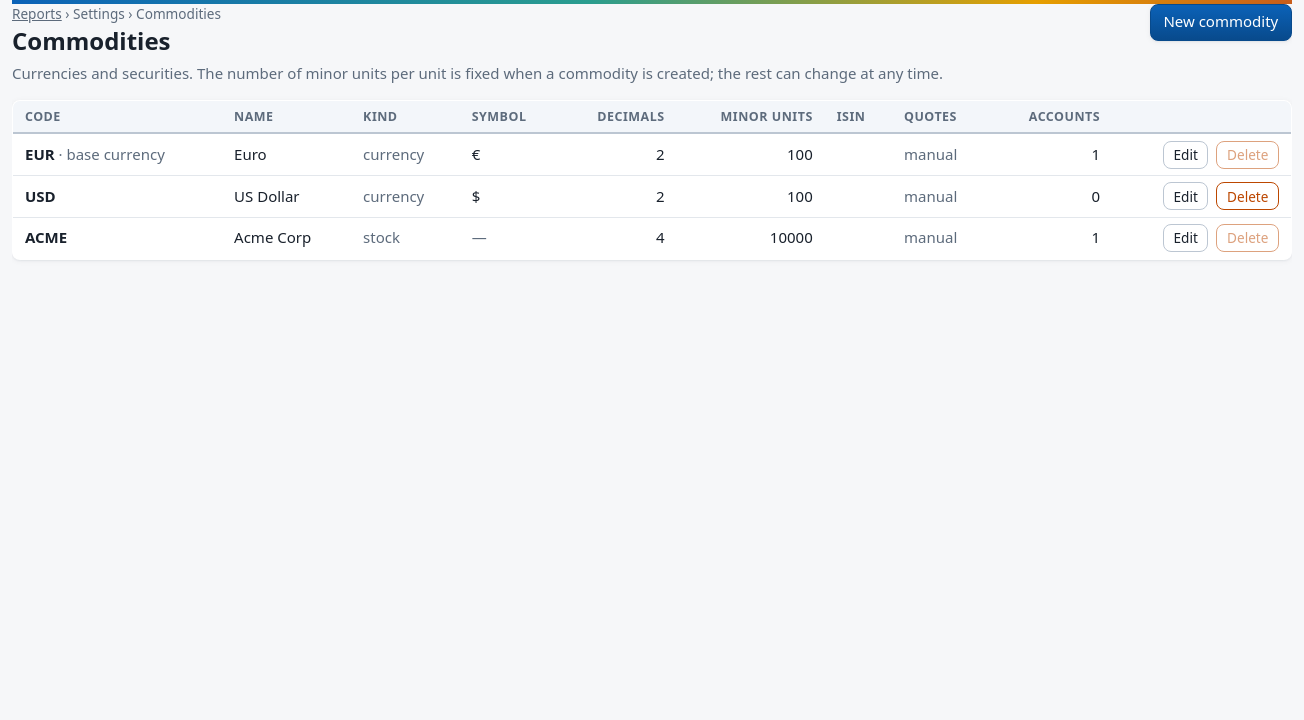
CommoditiesPage › edits only the display fields, and only those that changed
Click the button with aria-label "Edit USD": (1186,196) [1163,182,1208,210]
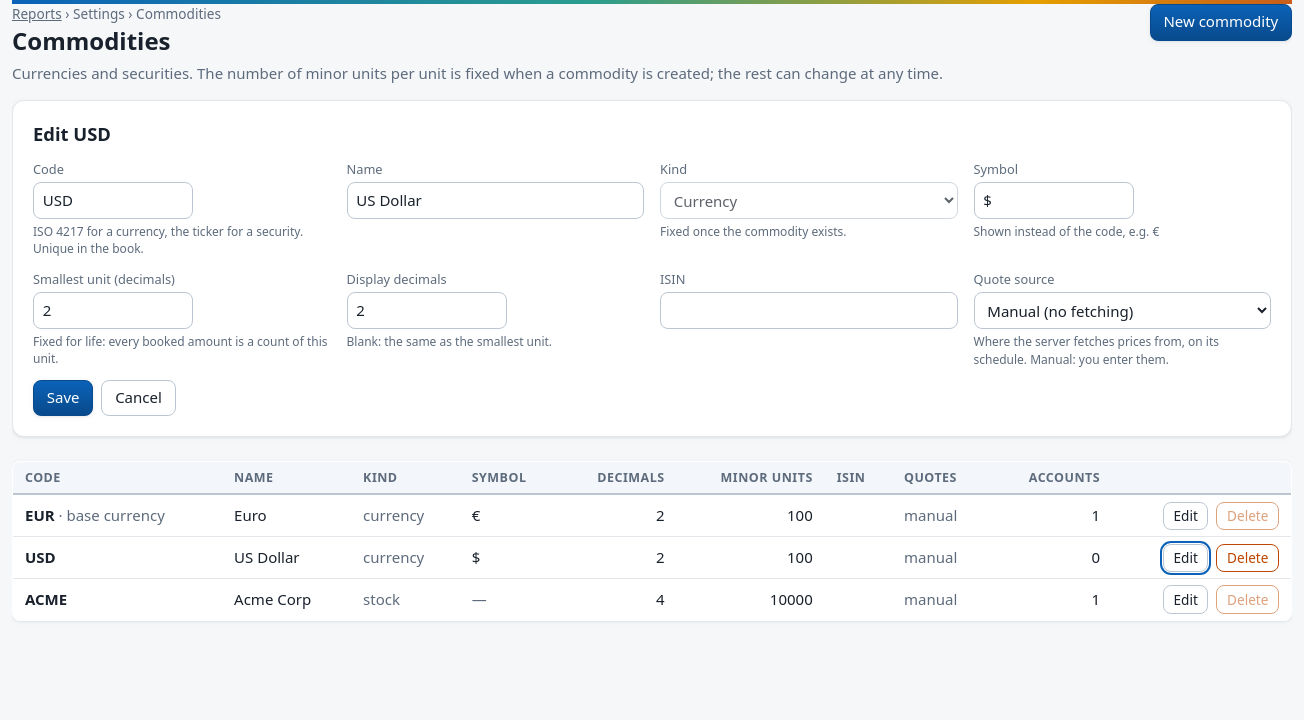
expect the dropdown labelled "Kind" is disabled: met, box [660,182,958,219]
expect the number field labelled "Smallest unit (decimals)" is disabled: met, box [33,292,193,329]
Replace the text in the field labelled "Name" with "United States dollar": (495,201) [346,182,644,219]
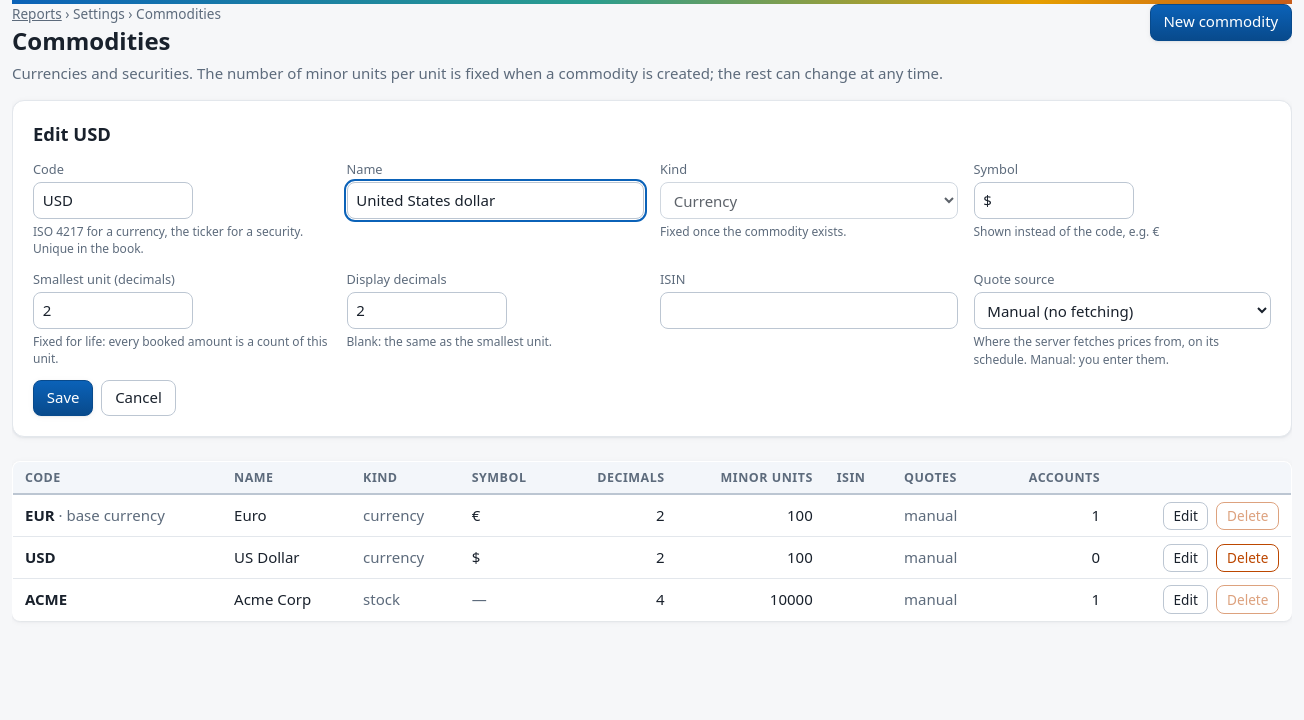
Clear the field labelled "Symbol": (1054,201) [974,182,1134,219]
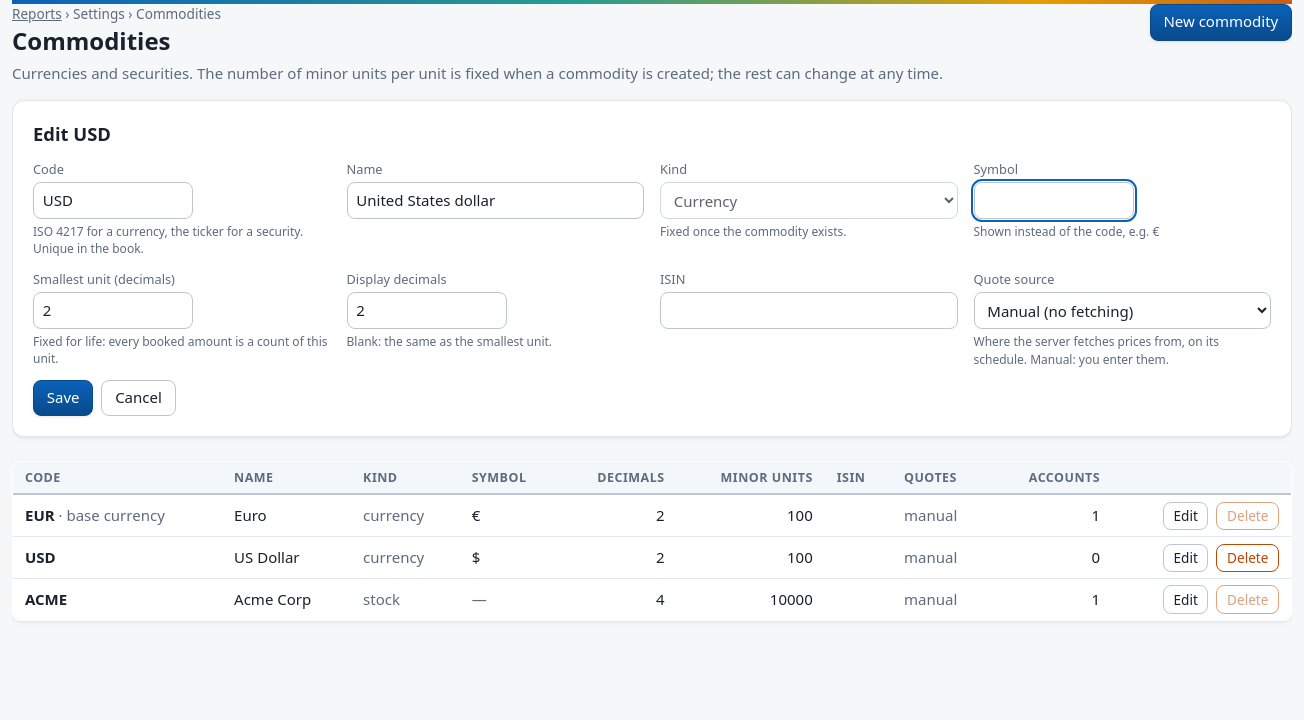
Replace the text in the number field labelled "Display decimals" with "3": (426,311) [346,292,506,329]
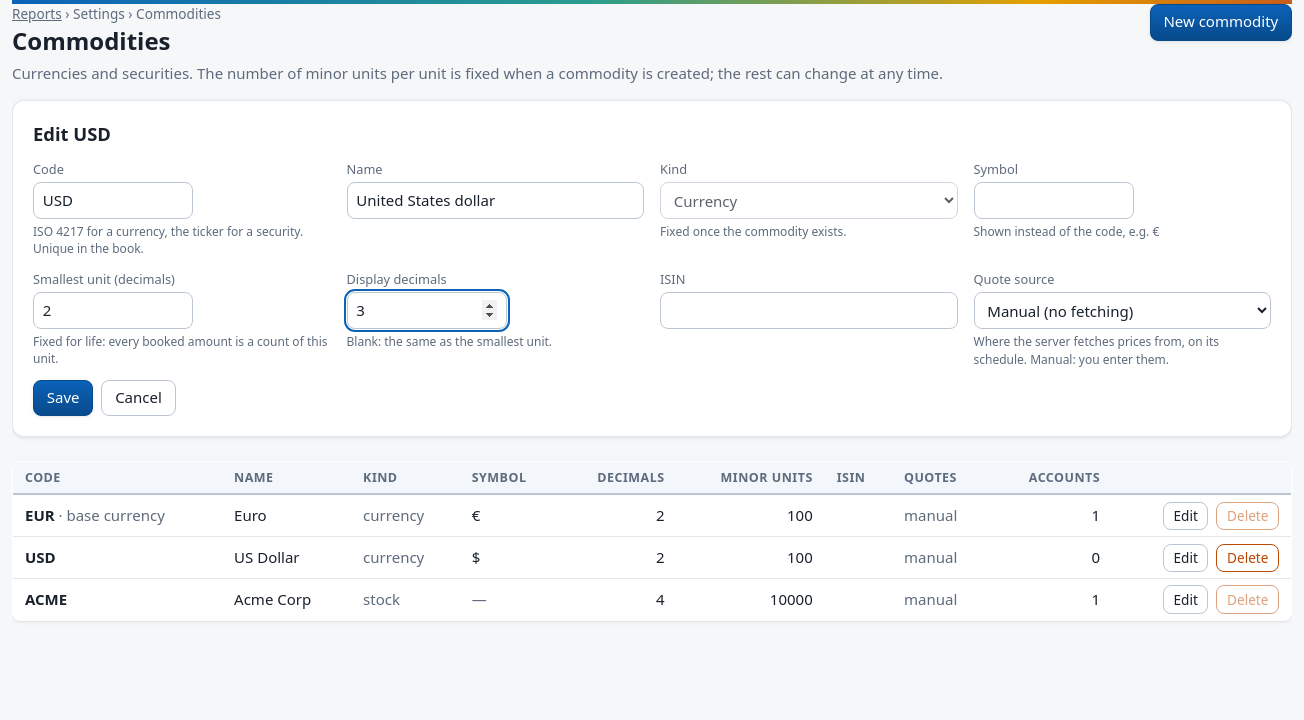
Click the button "Save": (63,398) [33,380,93,416]
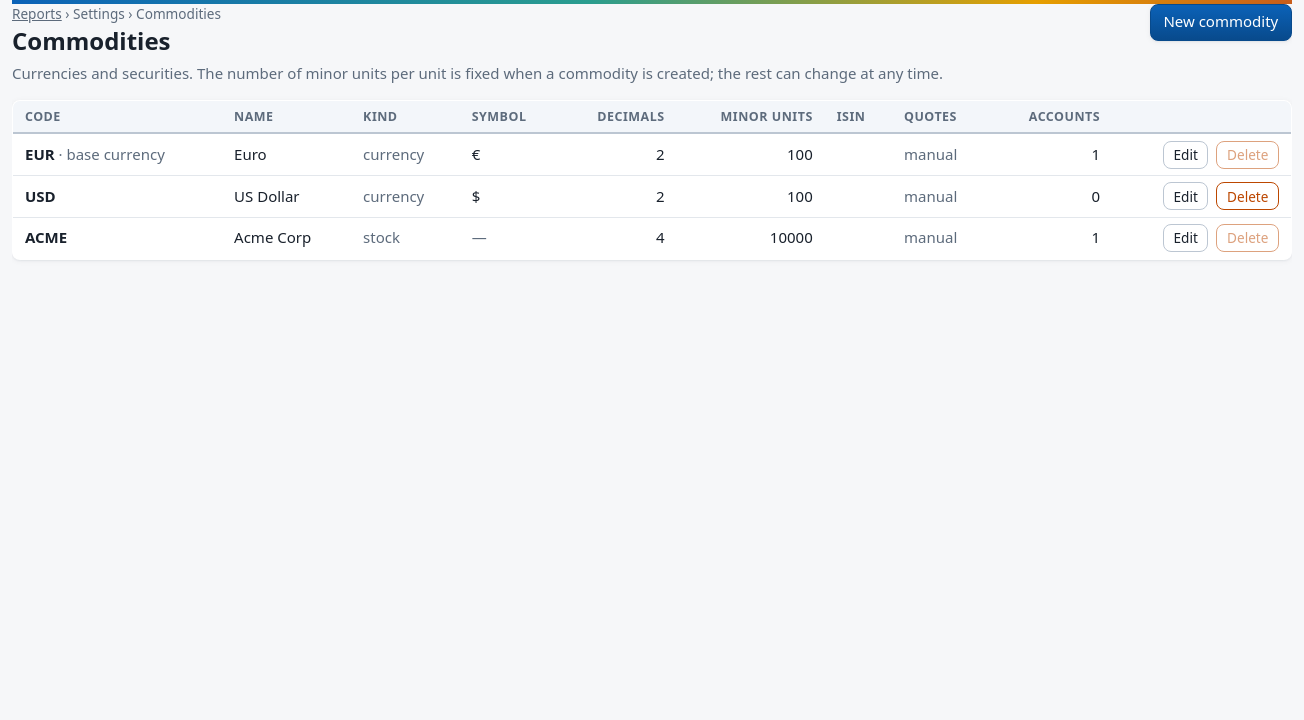
expect the heading "Edit USD" is gone: met
